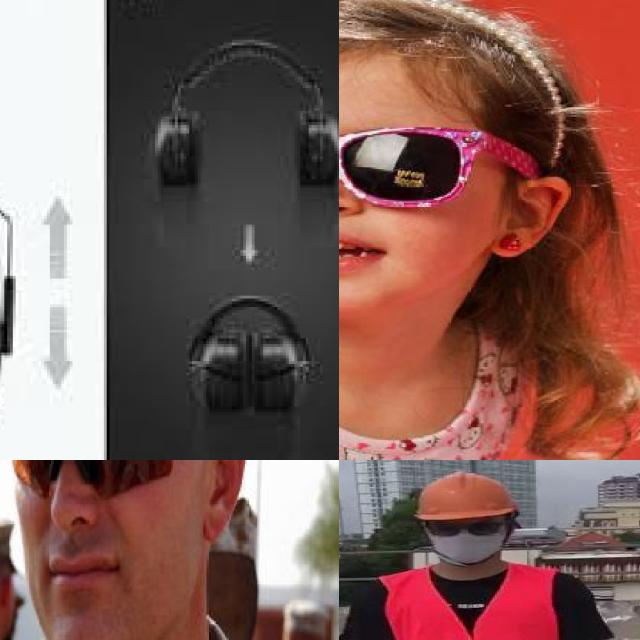Ear-protection: (180, 293, 318, 426), (150, 105, 203, 185), (288, 105, 339, 184)
No_Ear-Protection: (492, 159, 570, 273), (197, 460, 249, 542)
face_mask: (428, 518, 506, 560)
face_nomask: (12, 460, 189, 614), (339, 123, 469, 297)
glasses: (339, 115, 537, 204), (0, 460, 222, 516), (425, 517, 501, 538)
head_helmet: (416, 472, 519, 524)
head_nohelmet: (339, 0, 544, 94)
person: (339, 0, 606, 460), (0, 460, 339, 640), (364, 473, 613, 640)
vest: (382, 567, 564, 640)
